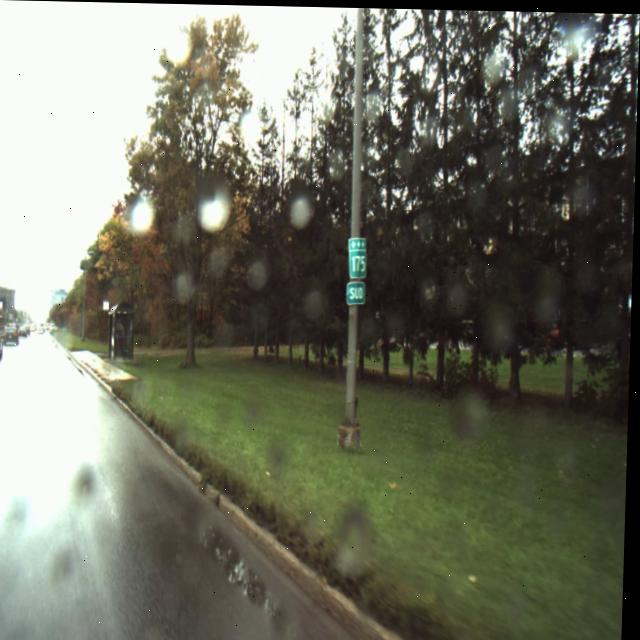car: (4, 326, 21, 346), (0, 328, 4, 365), (20, 327, 31, 338)
